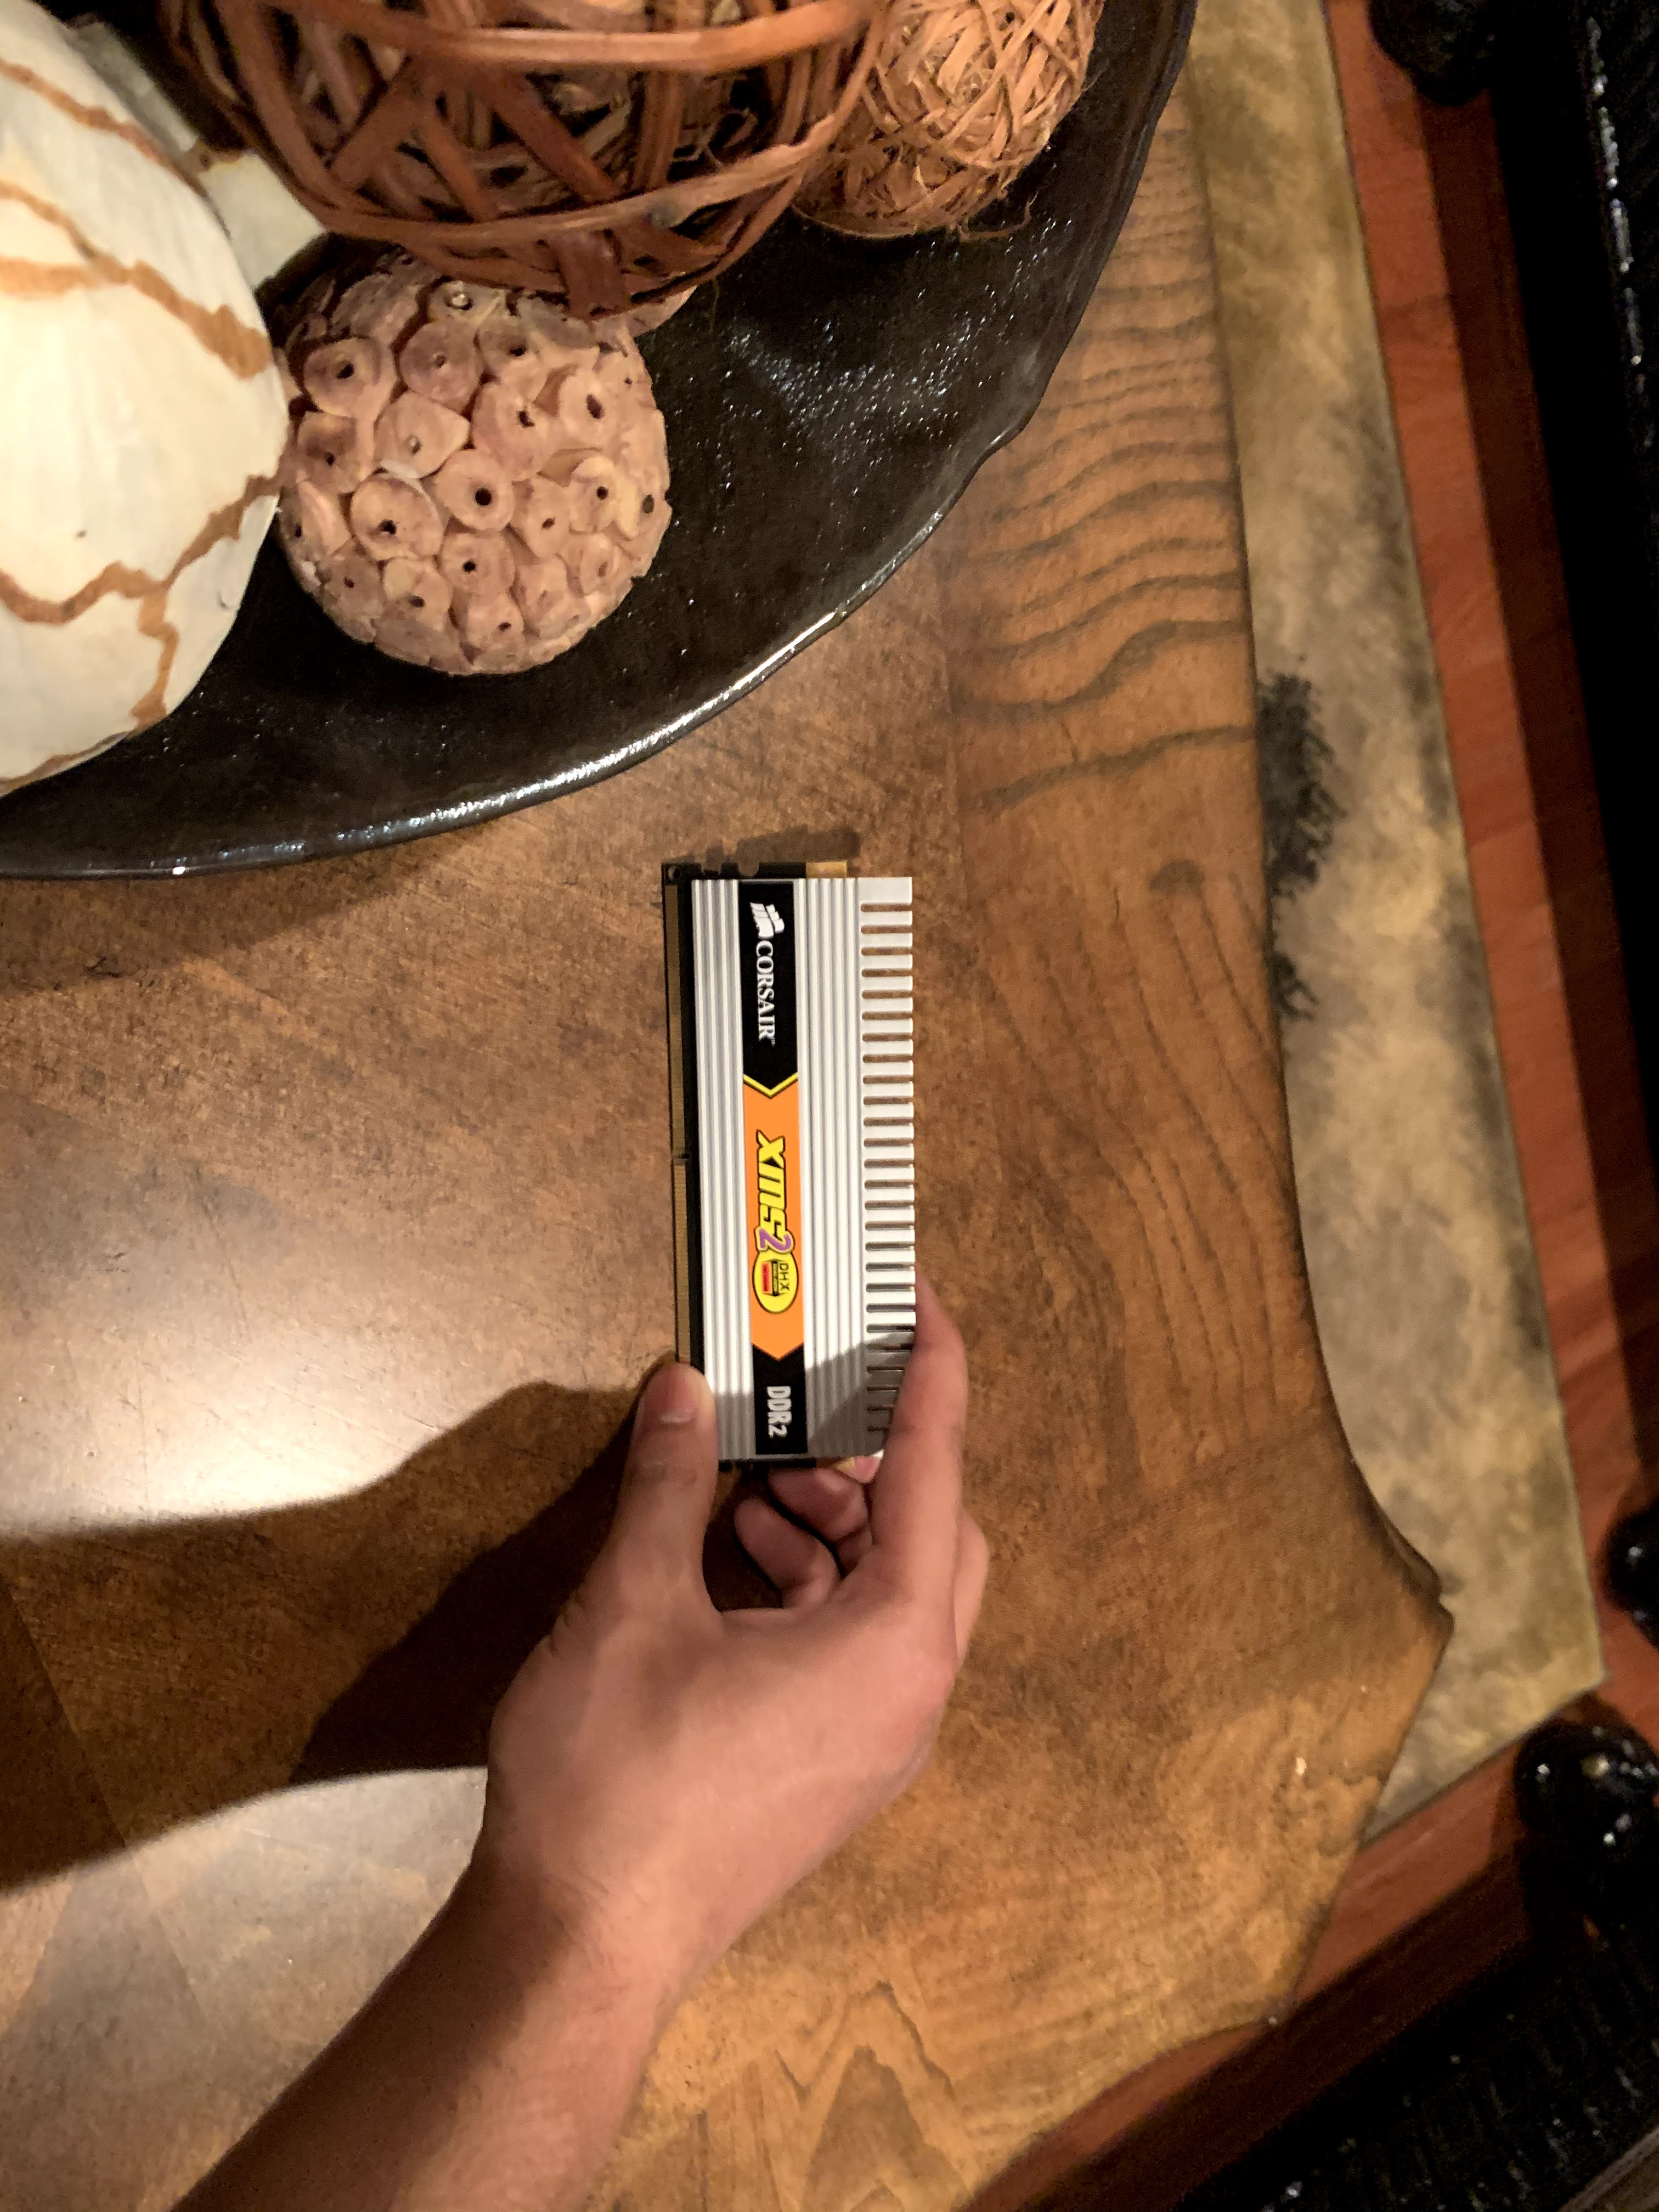Space-debris-medium: (629, 834, 945, 1486)
